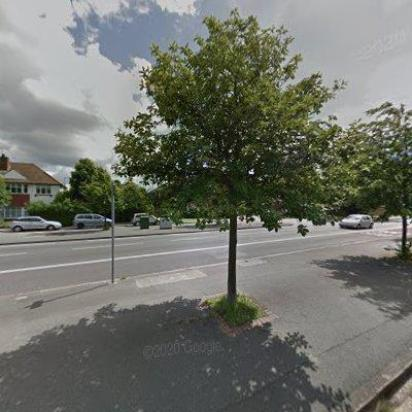moving-car: (338, 211, 374, 230)
stationary-car-onstreet: (6, 215, 62, 231), (74, 212, 112, 228), (132, 212, 162, 226)
